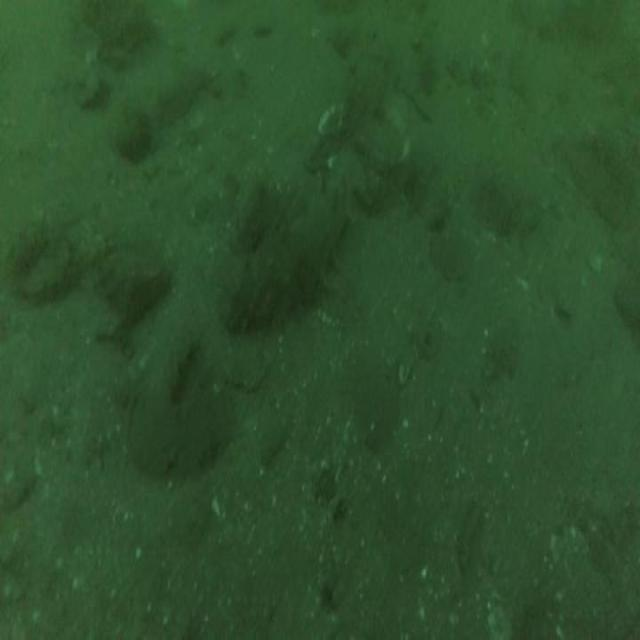holothurian: (221, 185, 352, 341)
